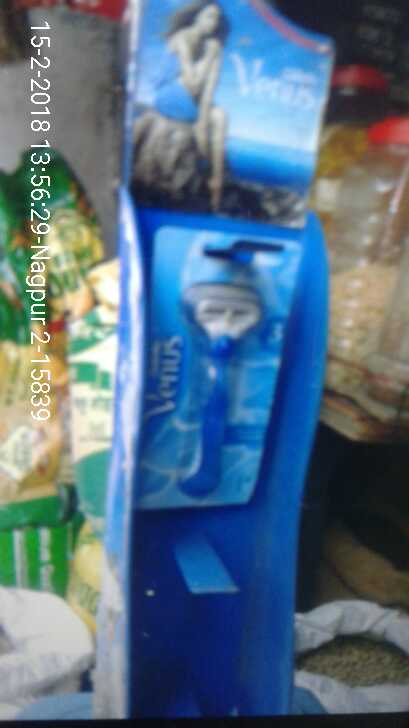venus: (147, 230, 295, 525)
